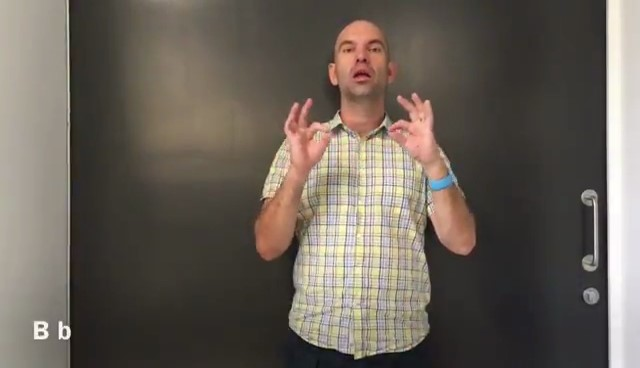B: (270, 85, 446, 181)
